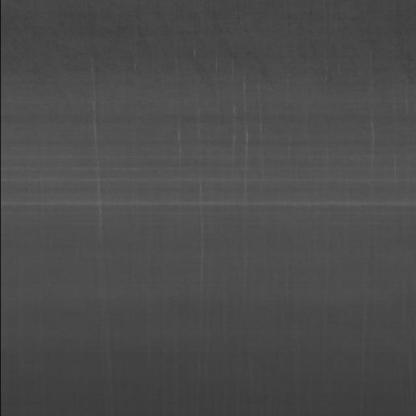waist_folding: (22, 98, 413, 240)
